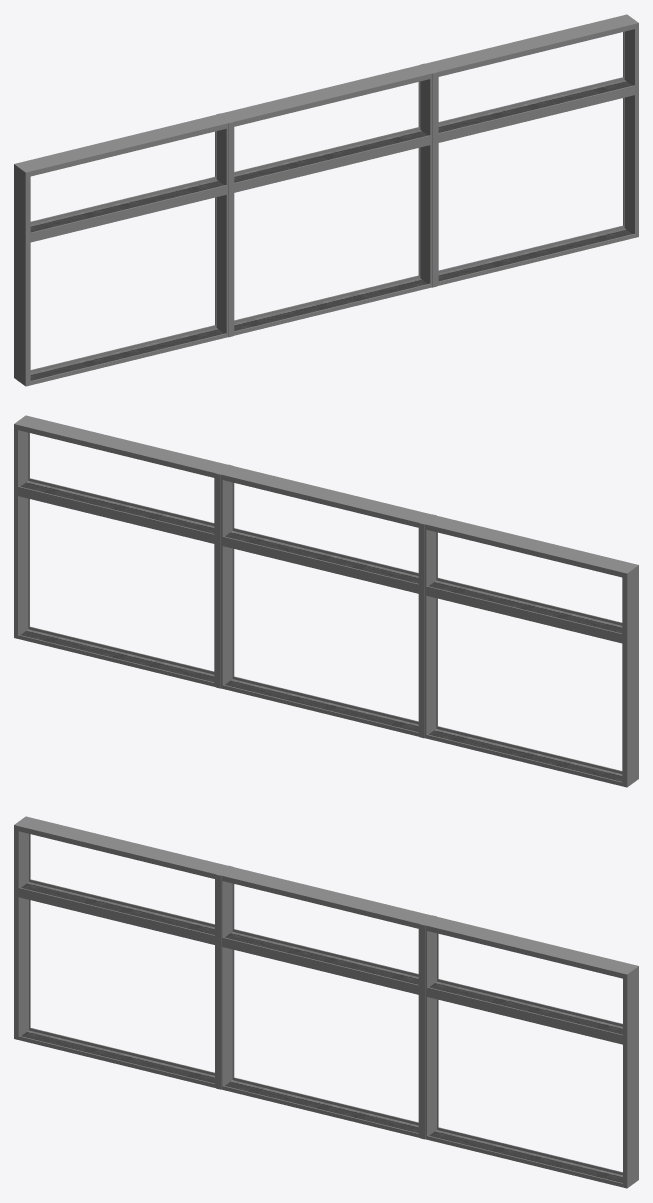
The model's file is Windows_03_Frame_Snaps014.FBX.
3 views of the same model, one above another, from view 1: azimuth 30°, elevation 25°; view 2: azimuth 150°, elevation 25°; view 3: azimuth 330°, elevation 25° (orthographic).
Parts seen in each view (by area): view 1: Windows_03_Frame_LOD01; view 2: Windows_03_Frame_LOD01; view 3: Windows_03_Frame_LOD01.
Boxes of the visible parts, box(x1,y1,x2,y2) form: Windows_03_Frame_LOD01: box(14, 14, 638, 386); Windows_03_Frame_LOD01: box(14, 415, 638, 787); Windows_03_Frame_LOD01: box(14, 816, 638, 1188).
Bounding box in the file's own units: 600 × 200 × 21.
2 materials, 1 textured.
